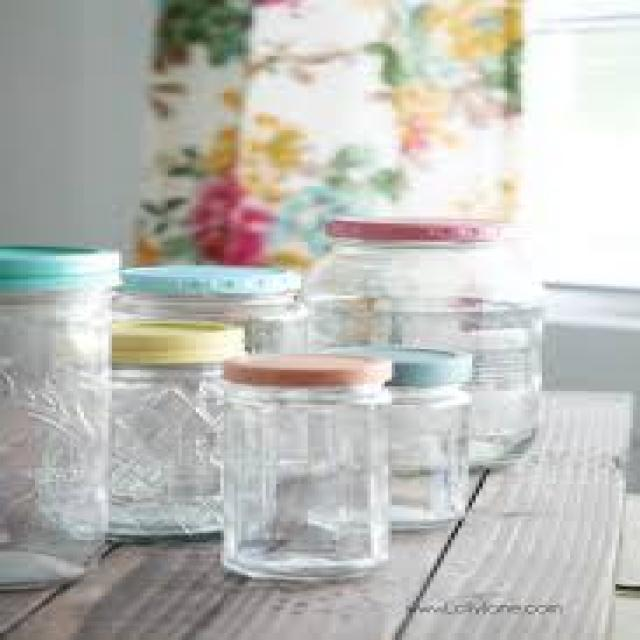Anorganik: (294, 242, 535, 468), (214, 377, 382, 580), (0, 291, 105, 584), (98, 363, 227, 538), (112, 293, 297, 356), (384, 384, 462, 524), (0, 242, 115, 291), (228, 346, 382, 382), (105, 319, 238, 358), (328, 342, 462, 379), (325, 216, 500, 242), (116, 263, 290, 289)
